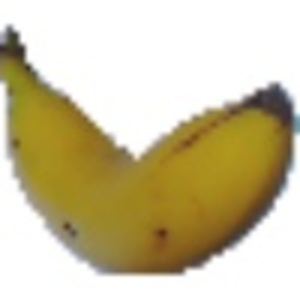banana: (2, 29, 297, 278)
